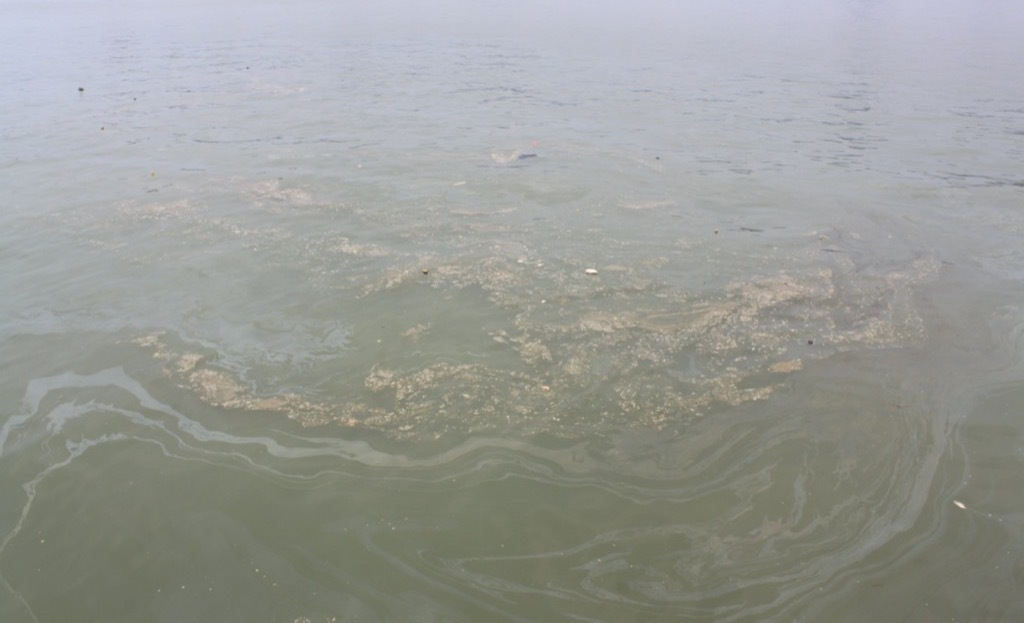organic: (72, 80, 94, 98), (707, 223, 726, 243), (802, 331, 819, 350), (91, 119, 109, 136), (648, 150, 666, 166), (240, 60, 258, 76), (127, 93, 143, 106)
plastic: (408, 253, 442, 289), (578, 257, 602, 285)
